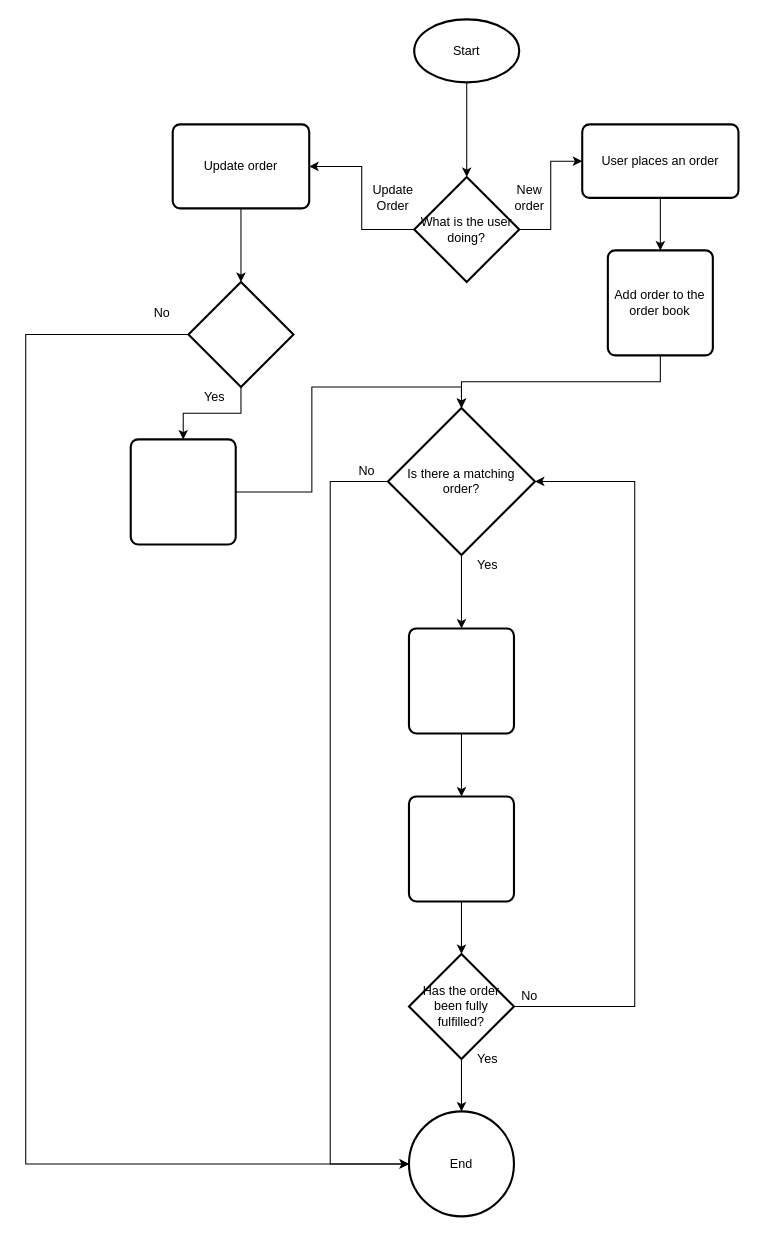
This 758x1235 diagram has some shape labels left out. Each missing label, with the centre of its shape:
"Commit transaction and update sell and buy order" goes at (460,848).
"Create a Trade, matching the sell and buy" goes at (460,680).
"Is there such order?" goes at (240,333).
"Update order book entry" goes at (182,491).
